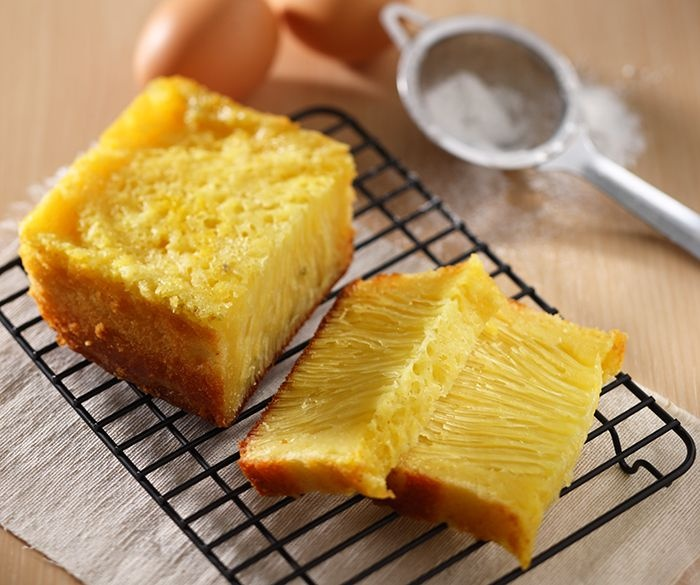bika_ambon: (300, 250, 602, 557)
